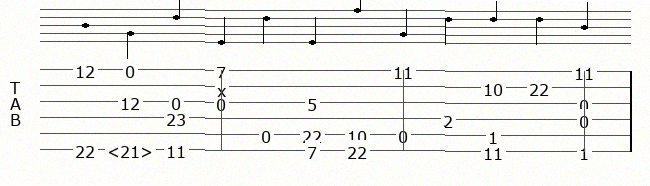0: (125, 62, 139, 78), (171, 94, 185, 110), (216, 94, 230, 110), (261, 126, 275, 142), (398, 126, 412, 142), (579, 94, 593, 110), (579, 110, 593, 126)
1: (488, 126, 502, 142), (579, 142, 593, 158)
10: (347, 126, 371, 142), (483, 78, 507, 94)
11: (166, 142, 190, 158), (393, 62, 417, 78), (483, 142, 507, 158), (574, 62, 598, 78)
12: (75, 62, 99, 78), (120, 94, 144, 110)
2: (443, 110, 457, 126)
22: (75, 142, 99, 158), (302, 126, 326, 142), (347, 142, 371, 158), (529, 78, 553, 94)
23: (166, 110, 190, 126)
5: (307, 94, 321, 110)
7: (216, 62, 230, 78), (307, 142, 321, 158)
harmonic: (107, 142, 157, 158)
x: (217, 80, 230, 93)
